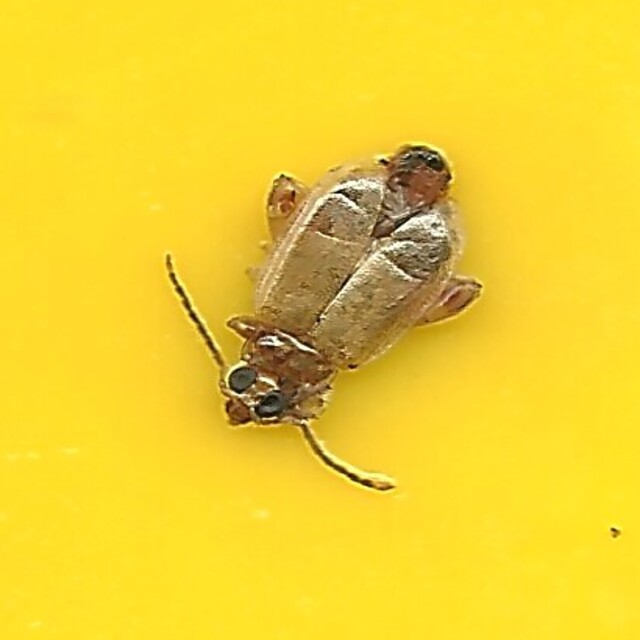Coleoptera: (156, 141, 484, 499)
